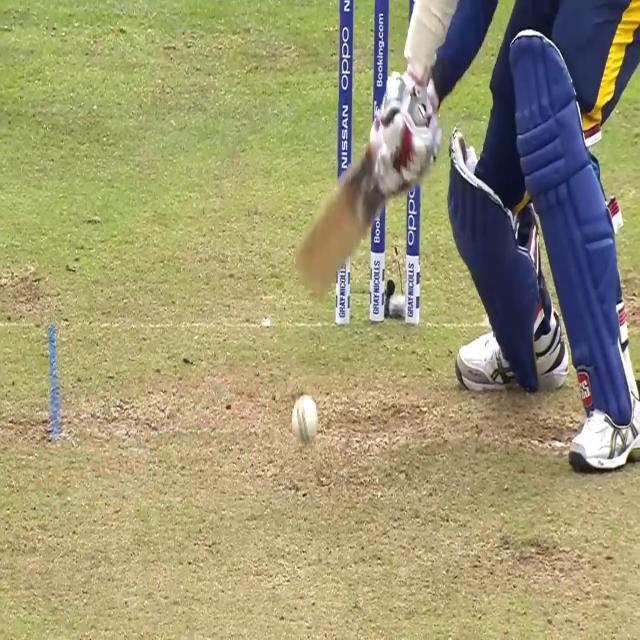ball: (292, 393, 320, 442)
